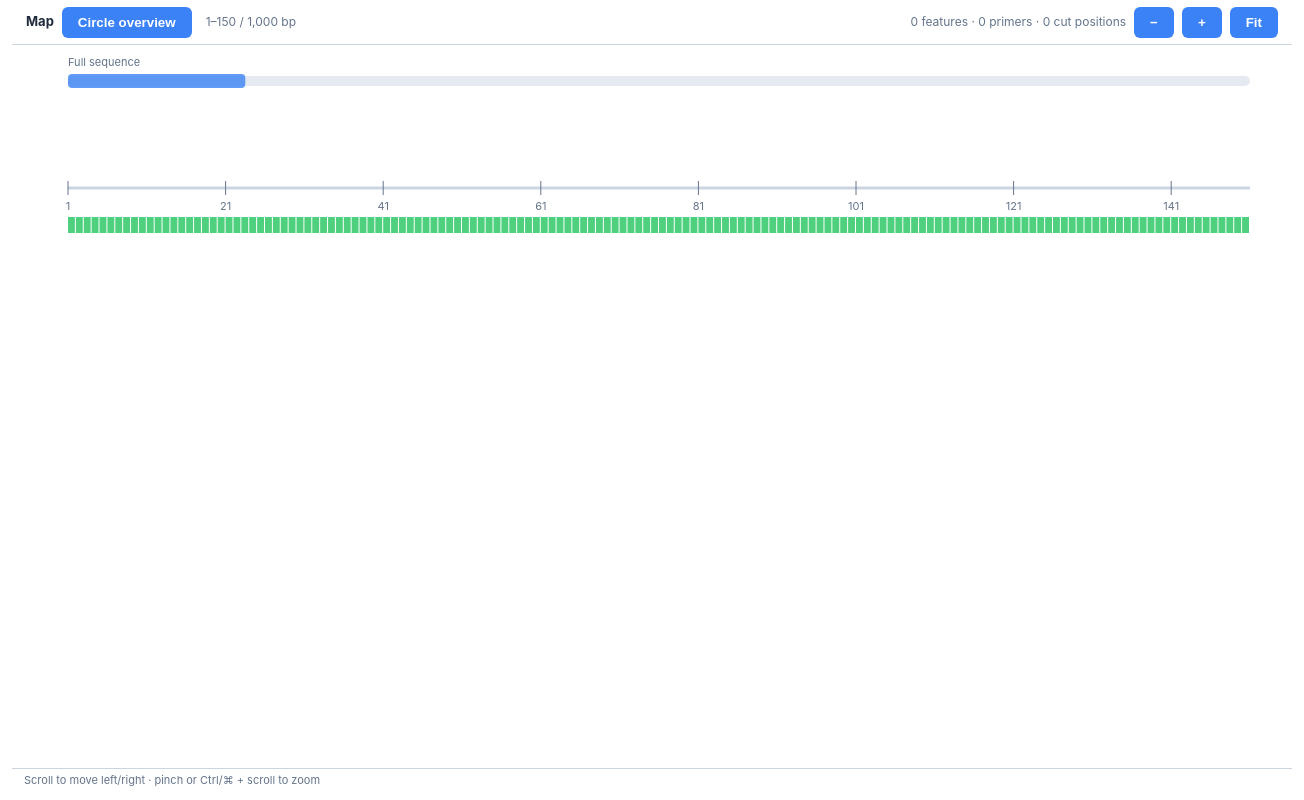
map feature and primer display › moves from a circular overview to local detail instead of scaling the ring
The width and height of the screenshot is (1304, 800).
Click the button "Circle overview": (127, 22) [62, 6, 192, 38]
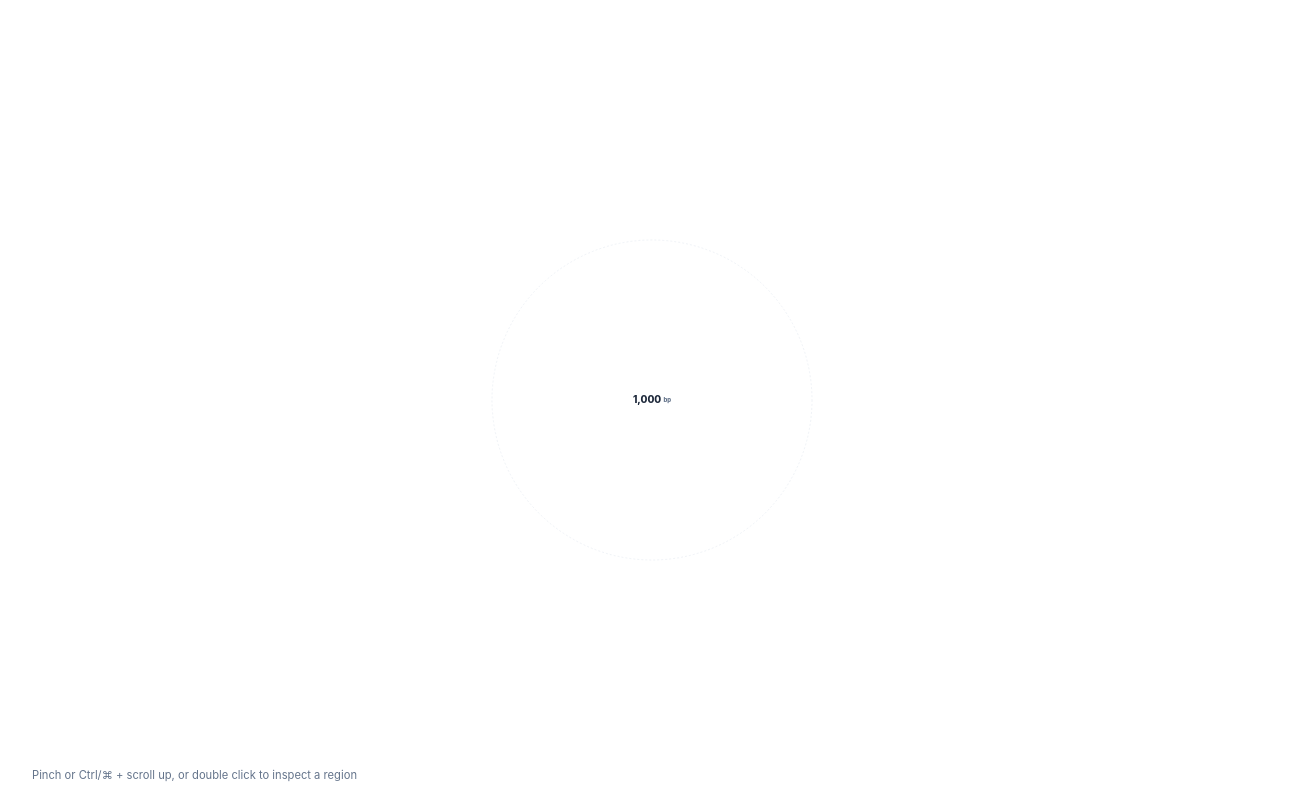
Expected: the button "Circle overview" no longer shows "Circle overview"
